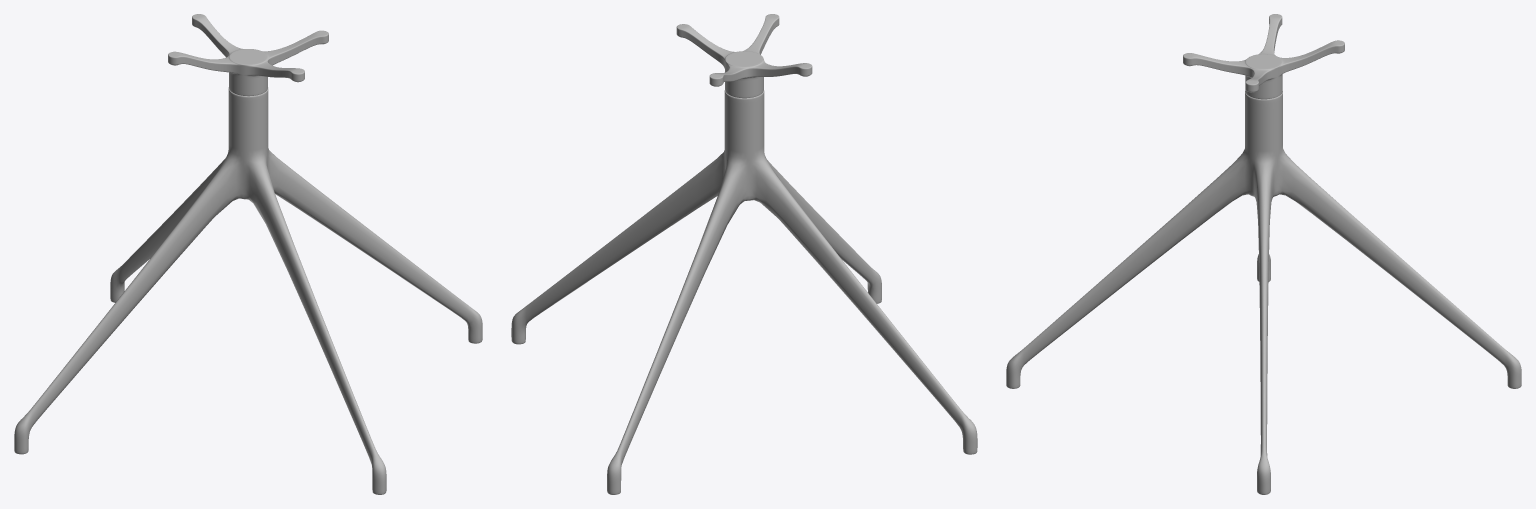
The model's file is tablechair_0103_leg.glb.
3 renders of one model, left to right at view 1: azimuth 30°, elevation 25°; view 2: azimuth 150°, elevation 25°; view 3: azimuth 270°, elevation 25°, orthographic. The views are drawn at different scales.
Parts seen in each view (by area): view 1: tablechair_0103_leg; view 2: tablechair_0103_leg; view 3: tablechair_0103_leg.
Part boxes in pixels (x1=…): tablechair_0103_leg: x1=14, y1=14, x2=482, y2=494; tablechair_0103_leg: x1=511, y1=14, x2=977, y2=494; tablechair_0103_leg: x1=1006, y1=14, x2=1521, y2=494.
Bounding box in the file's own units: 0.5605 × 0.4059 × 0.5605.
1 material, 1 textured.
